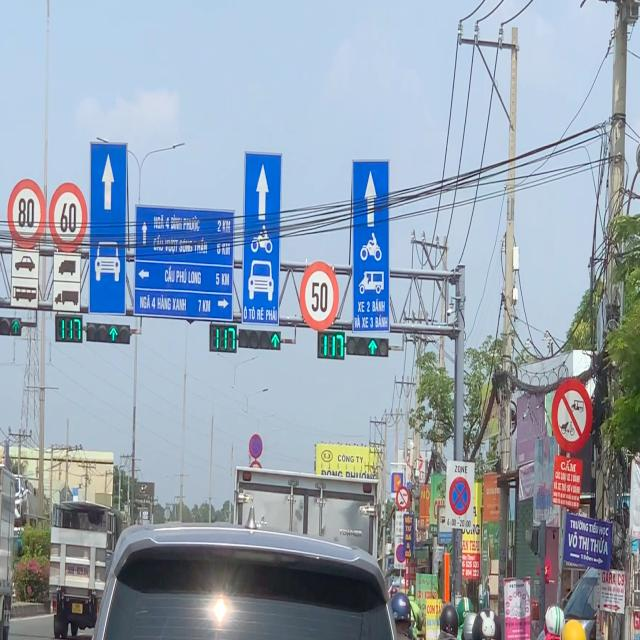Cam con lai: (551, 376, 593, 456), (396, 484, 409, 513)
Cam dung va do: (448, 475, 472, 517), (248, 432, 264, 460)
Toc do toi da: (298, 262, 338, 334), (49, 182, 88, 251), (9, 178, 45, 248)
